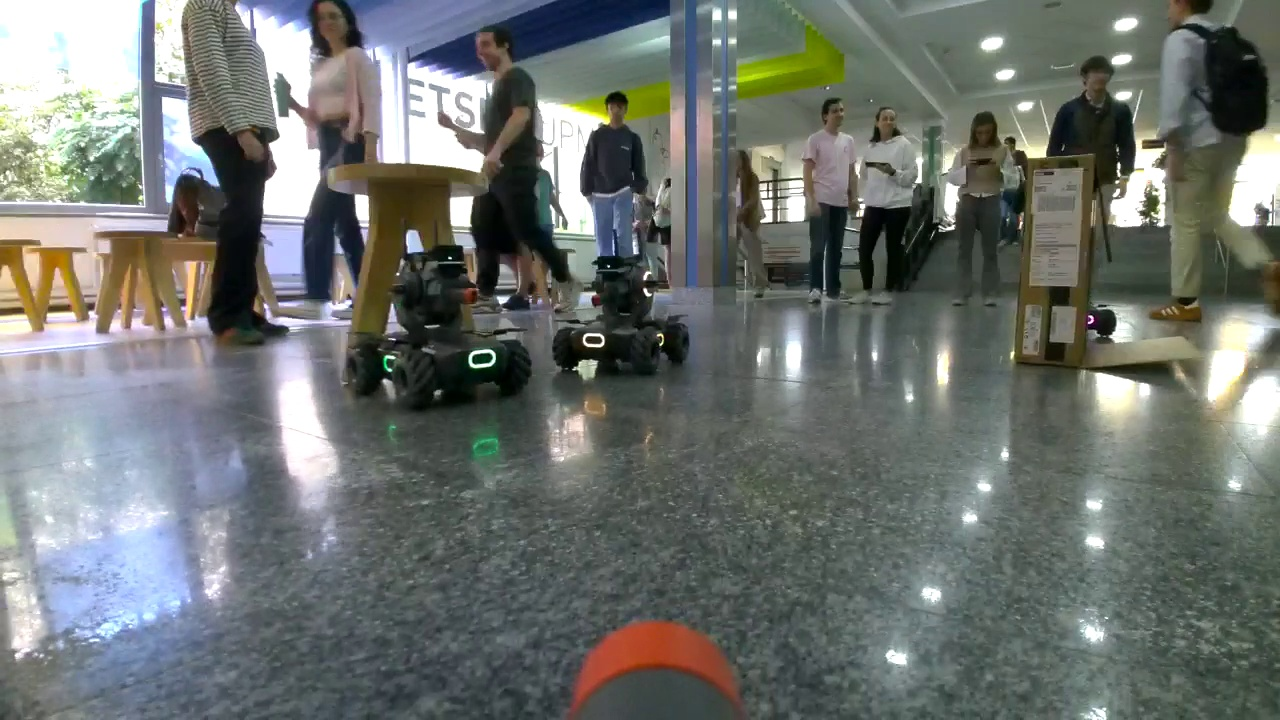robot: (336, 243, 537, 411), (549, 253, 694, 377)
